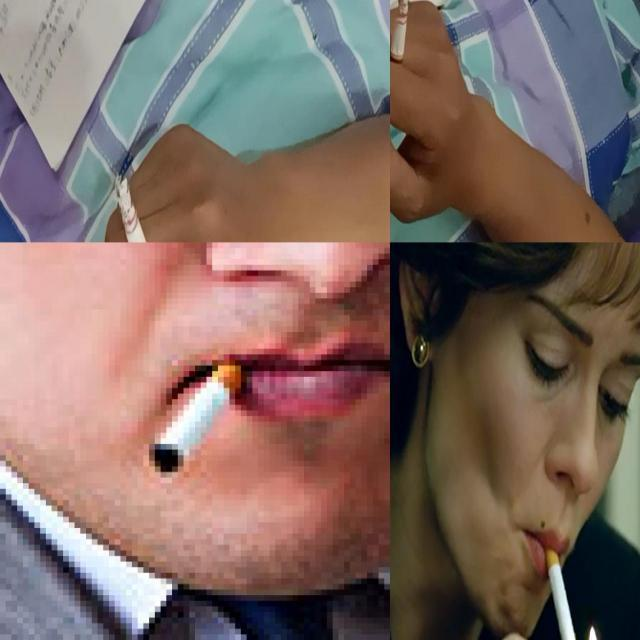cigarette: (137, 348, 241, 466), (544, 537, 586, 639), (116, 176, 159, 242), (390, 0, 413, 89)
